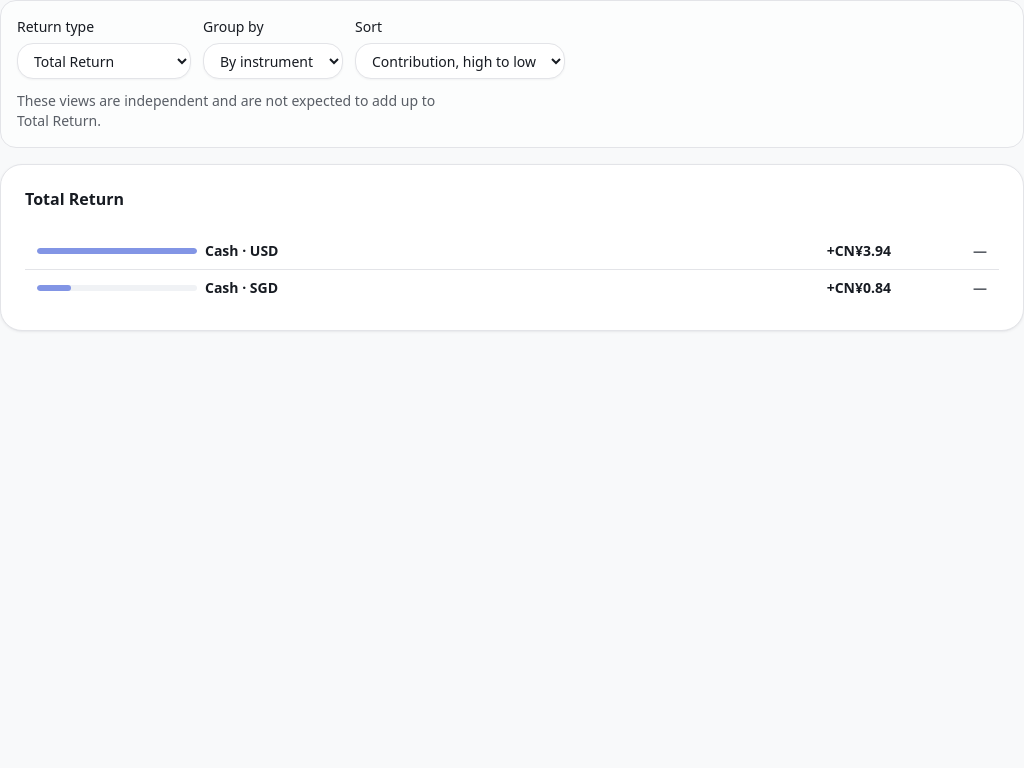
Test: insight tabs › shows separate cash currencies and opens only the selected cash contribution
expect the button "Cash · USD +CN¥3.94 —" is shown: met, box x1=25 y1=233 x2=999 y2=269
Click the button "Cash · SGD +CN¥0.84 —".
click(117, 288)  # box x1=25 y1=270 x2=999 y2=306
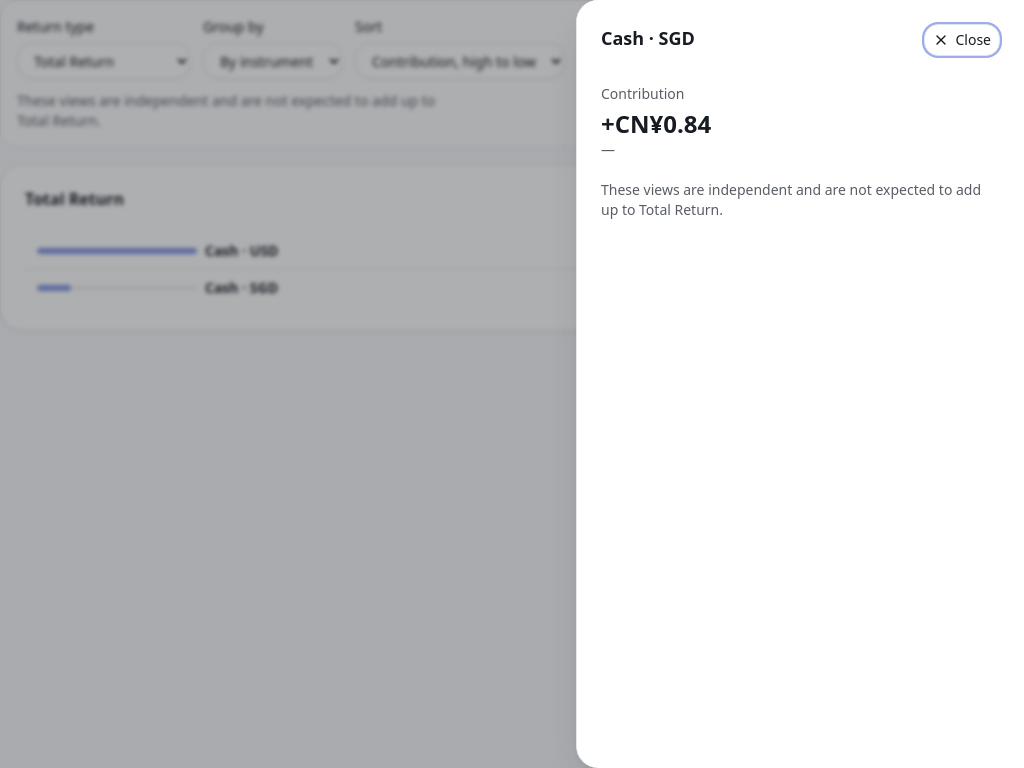
expect the heading "Cash · SGD" is shown: met, box x1=601 y1=26 x2=695 y2=50
